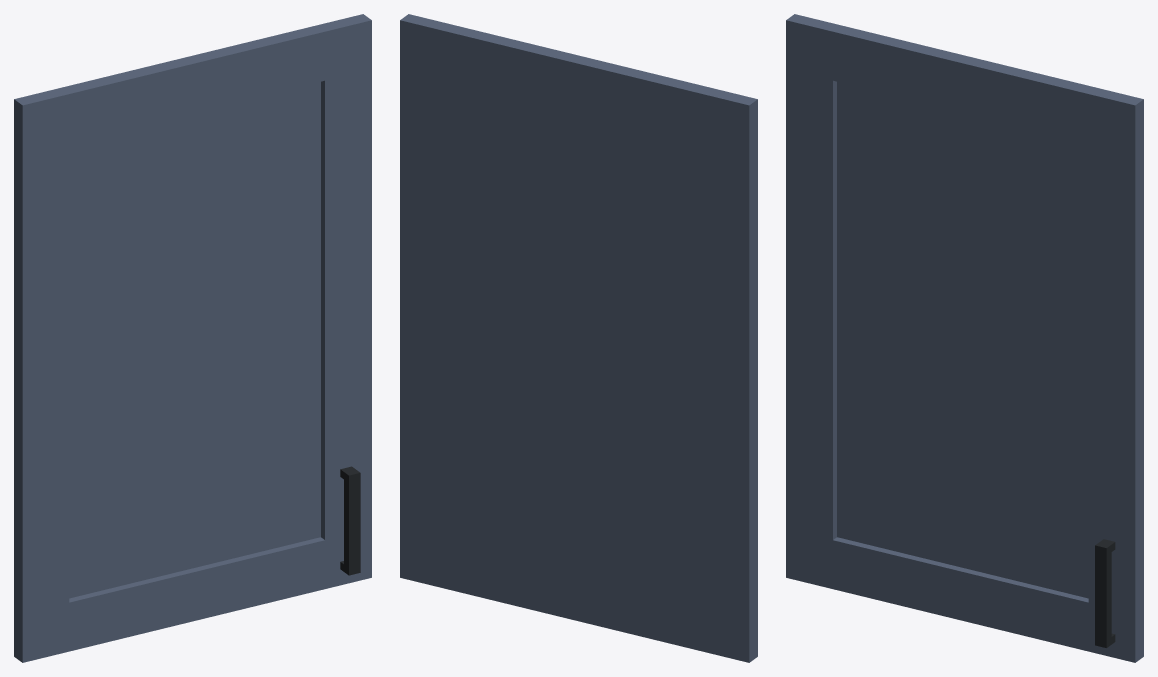
The model's file is Door2_C4_12.fbx.
3 views of the same model, side by side, from view 1: azimuth 30°, elevation 25°; view 2: azimuth 150°, elevation 25°; view 3: azimuth 330°, elevation 25° (orthographic).
Visible parts, largest first — view 1: Door2_C4_12; view 2: Door2_C4_12; view 3: Door2_C4_12.
Boxes of the visible parts, <box> form: Door2_C4_12: <box>14,14,371,662</box>; Door2_C4_12: <box>400,14,757,662</box>; Door2_C4_12: <box>786,14,1143,662</box>.
Size of the model in its own units: 59 by 90 by 5.03.
